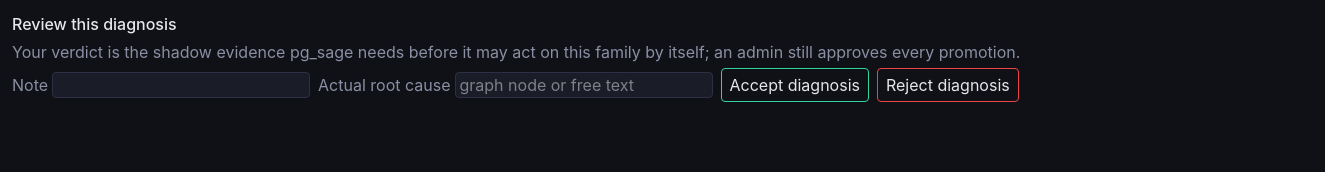
Scenario: InvestigationReview › says when the investigation outcome was not recorded
What coordinates should you click on to do the following:
click the button "Accept diagnosis"
I would click on:
 (795, 85)
Its box is 720,68 -> 869,102.
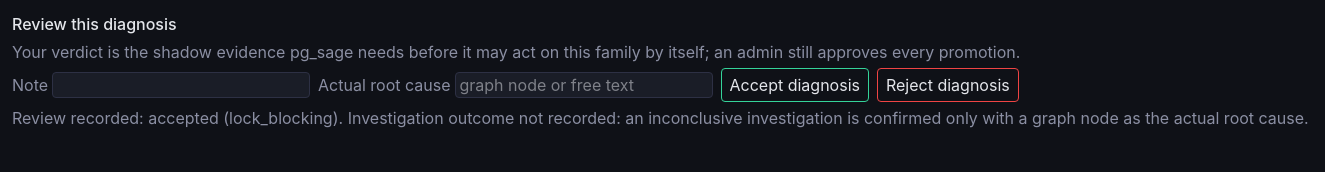
Check: the text with test id "investigation-review-status" shows "graph node", box 343,108 -> 1309,128
